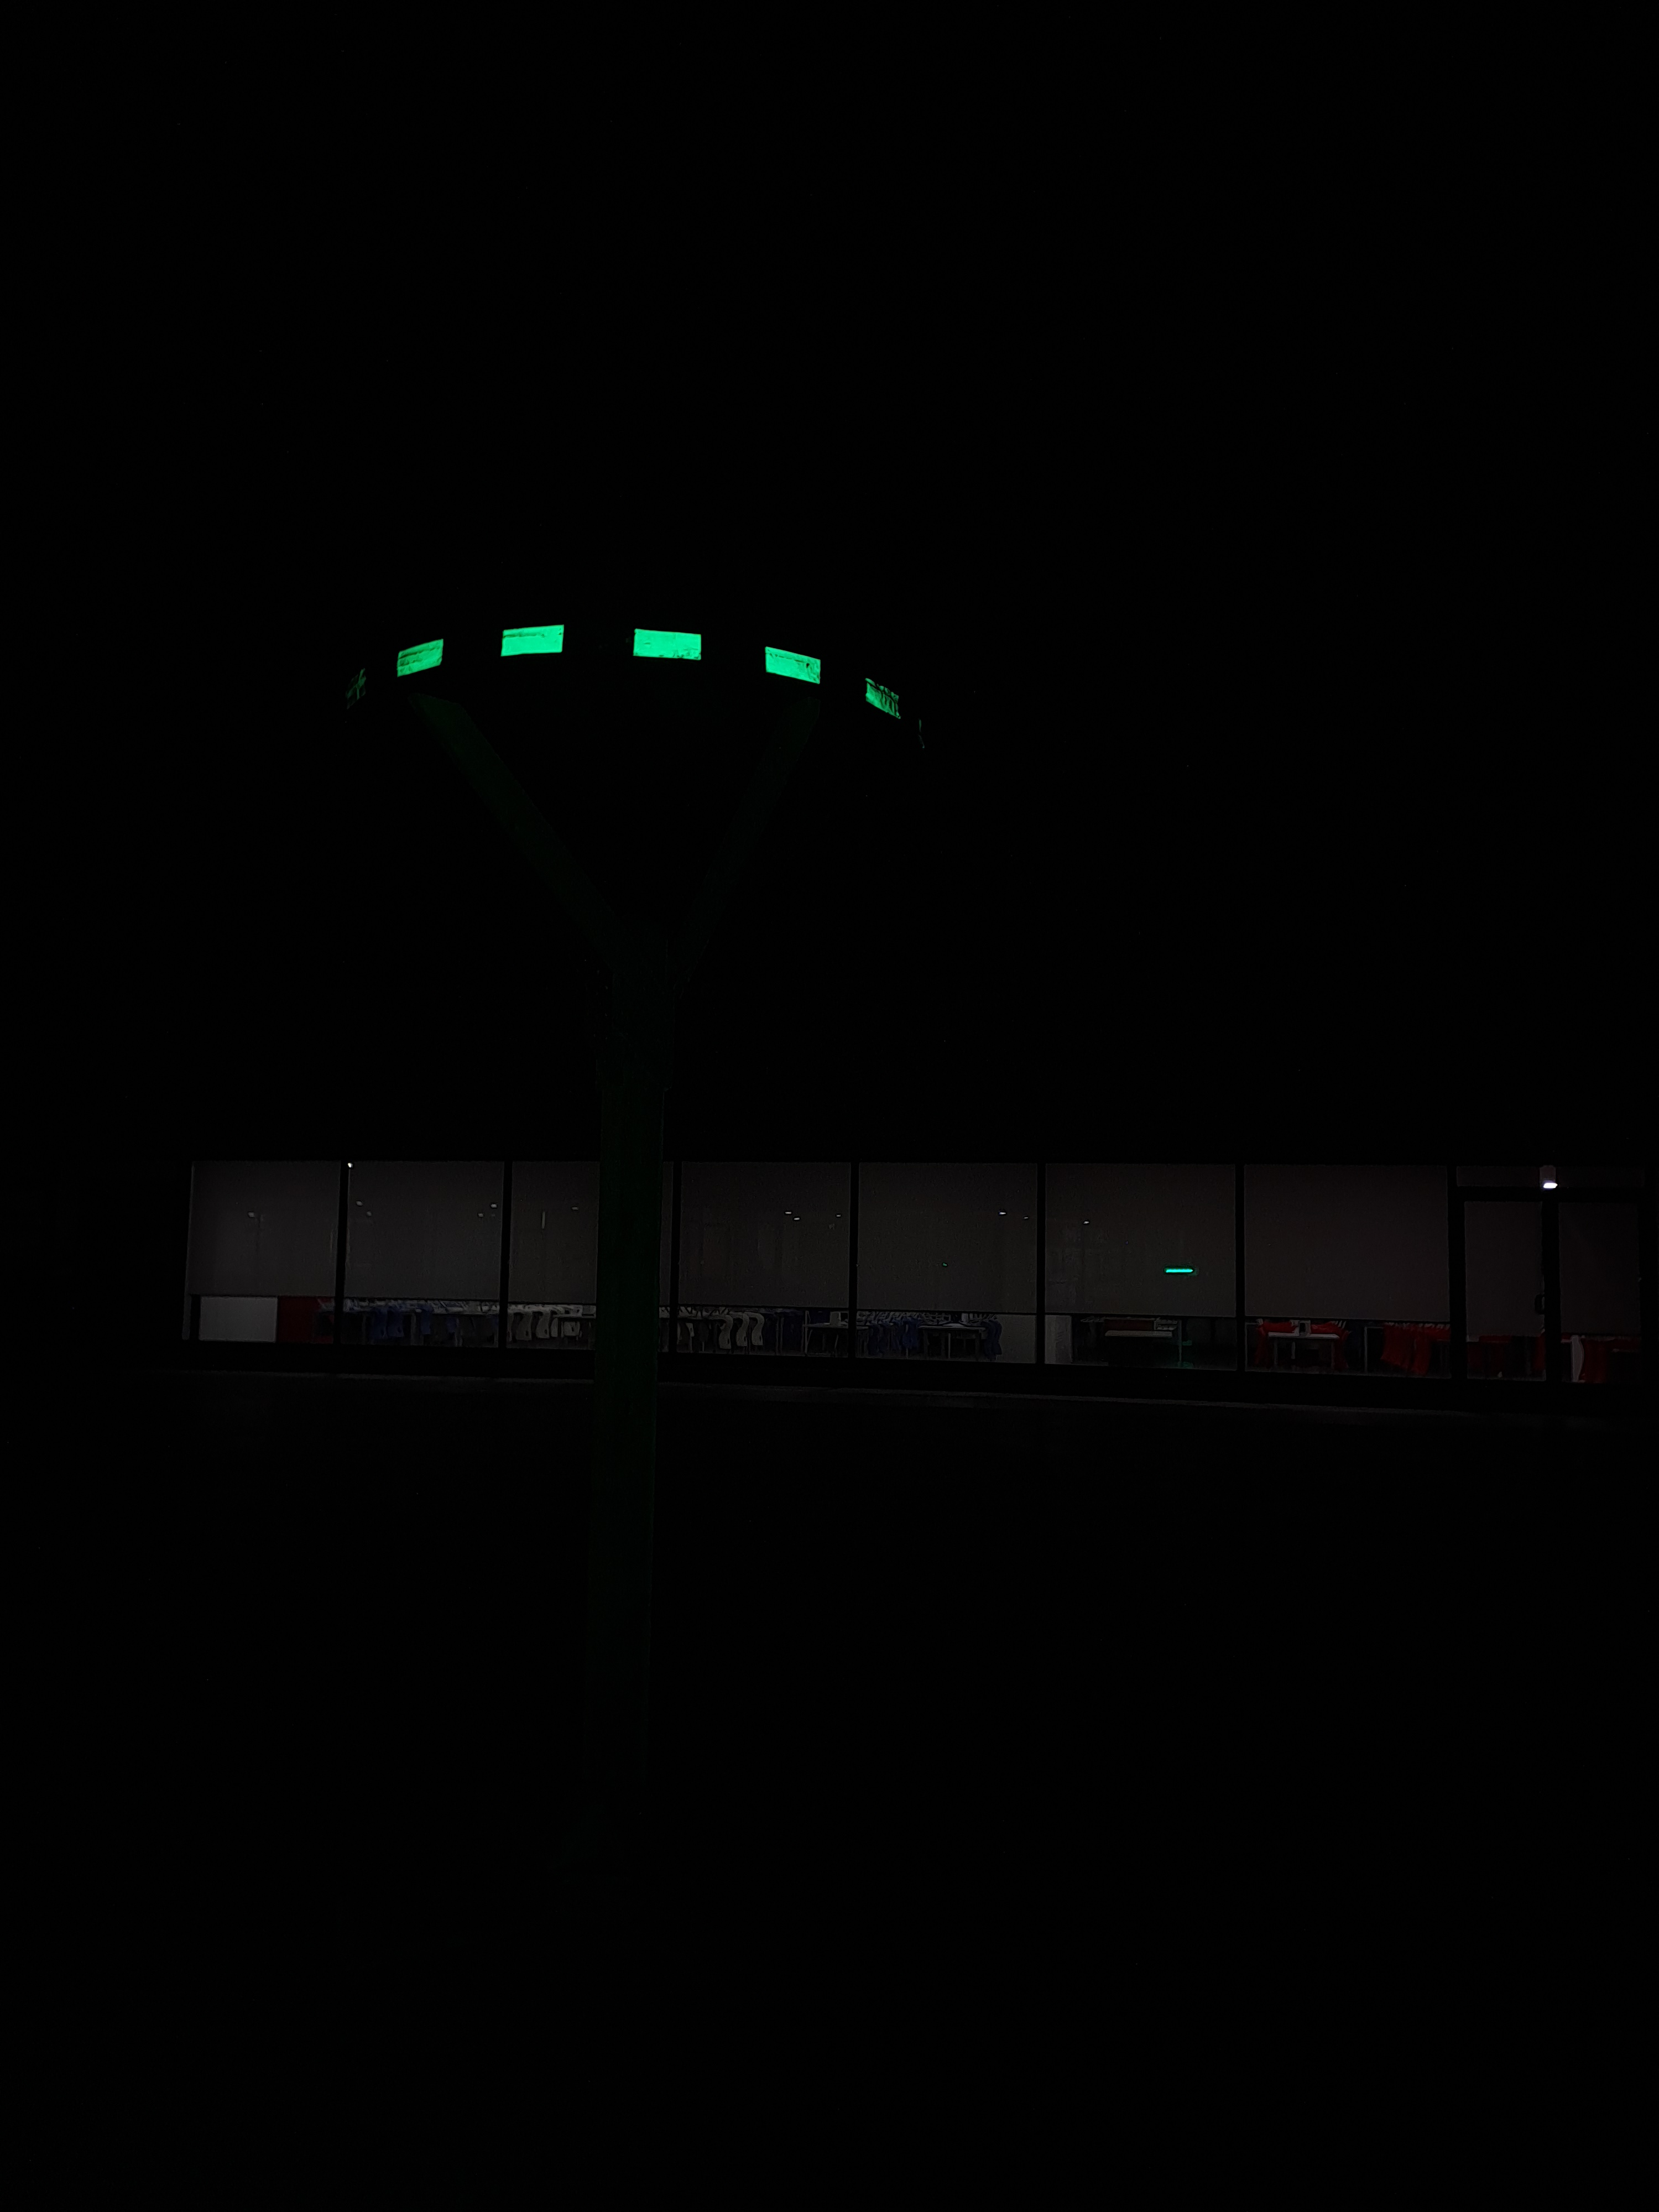hoop: (387, 624, 908, 723)
